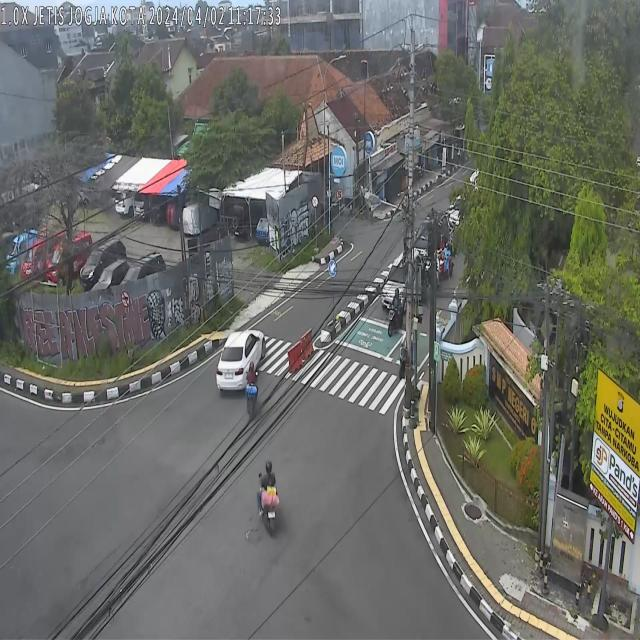car: (218, 327, 266, 396), (382, 248, 424, 309), (413, 210, 450, 264)
motorcycle: (256, 458, 279, 539), (388, 287, 403, 338), (246, 359, 258, 419), (439, 243, 454, 281)
